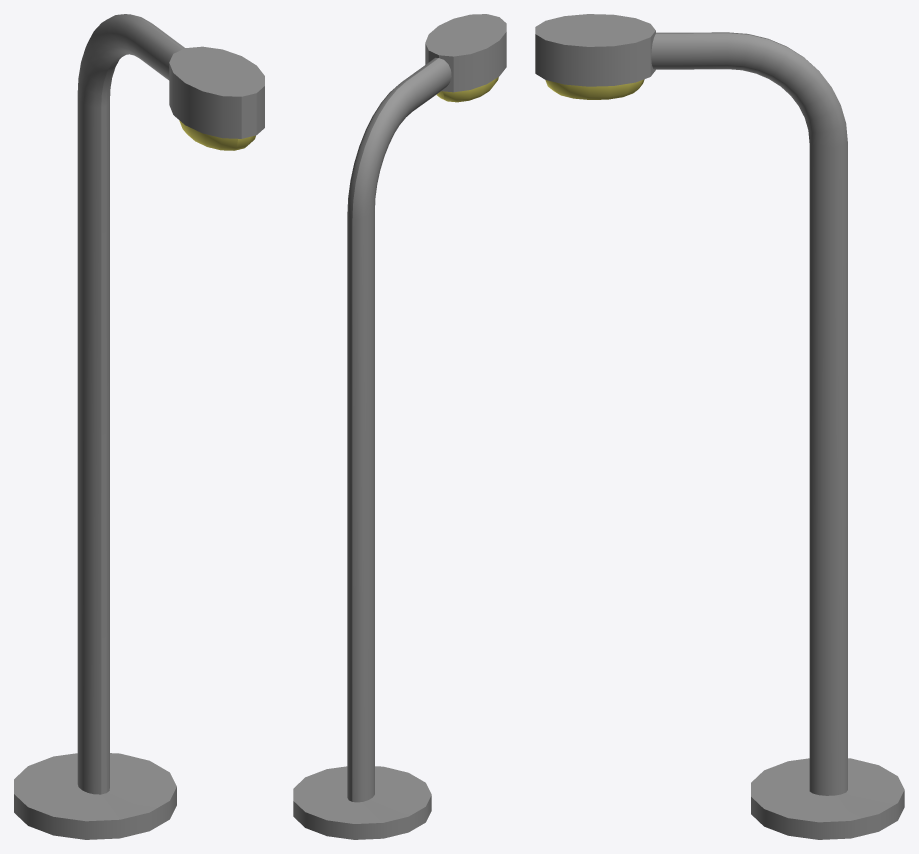
The model's file is street lamp.fbx.
The picture shows the model from 3 angles, left to right: view 1: azimuth 30°, elevation 25°; view 2: azimuth 150°, elevation 25°; view 3: azimuth 270°, elevation 25°; orthographic projection. The views are drawn at different scales.
Visible parts, largest first — view 1: Cube; view 2: Cube; view 3: Cube.
Boxes of the visible parts, <box> form: Cube: <box>14,14,264,839</box>; Cube: <box>293,14,506,839</box>; Cube: <box>535,14,904,839</box>.
Bounding box in the file's own units: 36.14 × 200 × 86.36.
